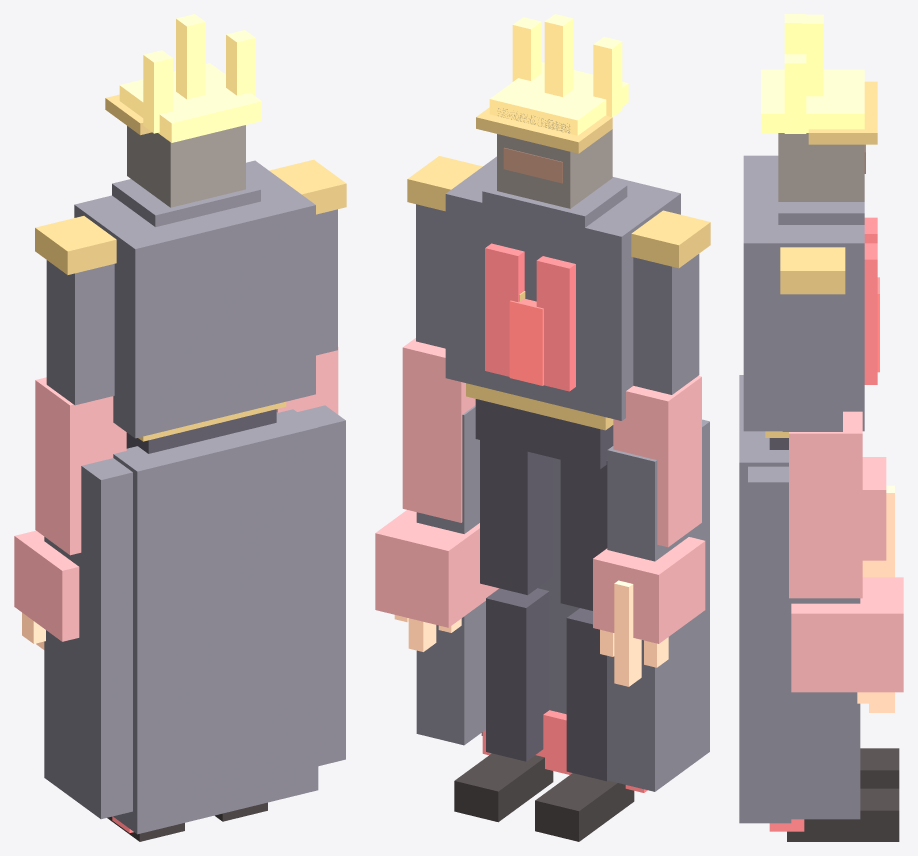
Rendered from hollow_herald_blockout.glb.
3 renders of one model, left to right at view 1: azimuth 30°, elevation 25°; view 2: azimuth 150°, elevation 25°; view 3: azimuth 270°, elevation 25°, orthographic. The views are drawn at different scales.
Parts seen in each view (by area): view 1: CoatBack, TorsoMesh, CoatFlareL, CoatFlareR, L_ForearmMesh, L_UpperArmMesh, HeadMesh, L_FistMesh, CrownBand, L_Epaulette, R_UpperArmMesh, Collar (+8 smaller); view 2: TorsoMesh, CoatFlareL, CoatFlareR, R_ThighMesh, R_ShinMesh, R_ForearmMesh, R_FistMesh, L_ForearmMesh, L_UpperArmMesh, L_FistMesh, L_ShinMesh, L_ThighMesh (+22 smaller); view 3: CoatFlareR, TorsoMesh, R_ForearmMesh, R_FistMesh, R_UpperArmMesh, HeadMesh, CoatBack, CrownBand, R_Foot, R_Epaulette, L_FistMesh, Collar (+11 smaller).
Part boxes in pixels (box(x1,y1,x2,y2)): CoatBack: box(113, 409, 318, 834); TorsoMesh: box(74, 160, 315, 438); CoatFlareL: box(44, 458, 132, 819); CoatFlareR: box(297, 405, 345, 766); L_ForearmMesh: box(35, 377, 126, 555); L_UpperArmMesh: box(46, 260, 114, 405); HeadMesh: box(127, 125, 245, 207); L_FistMesh: box(14, 530, 79, 641); CrownBand: box(119, 63, 261, 142); L_Epaulette: box(35, 216, 116, 274); R_UpperArmMesh: box(316, 209, 337, 355); Collar: box(112, 179, 260, 227); TorsoMesh: box(445, 156, 680, 420); CoatFlareL: box(607, 419, 709, 791); CoatFlareR: box(416, 405, 485, 745); R_ThighMesh: box(480, 440, 553, 595); R_ShinMesh: box(486, 588, 549, 761); R_ForearmMesh: box(402, 338, 475, 522); R_FistMesh: box(375, 510, 498, 627); L_ForearmMesh: box(613, 376, 701, 547); L_UpperArmMesh: box(633, 254, 699, 394); L_FistMesh: box(593, 537, 705, 643); L_ShinMesh: box(566, 608, 607, 781); L_ThighMesh: box(560, 460, 607, 610); CoatFlareR: box(748, 466, 860, 819); TorsoMesh: box(743, 155, 864, 431); R_ForearmMesh: box(789, 411, 862, 598); R_FistMesh: box(791, 577, 903, 692); R_UpperArmMesh: box(782, 294, 842, 431); HeadMesh: box(778, 133, 864, 201); CoatBack: box(739, 375, 791, 823); CrownBand: box(761, 69, 864, 132); R_Foot: box(787, 788, 899, 841); R_Epaulette: box(780, 247, 845, 294); L_FistMesh: box(862, 457, 886, 560); Collar: box(778, 202, 864, 224).
Bounding box in the file's own units: 0.75 × 2.02 × 0.38.
